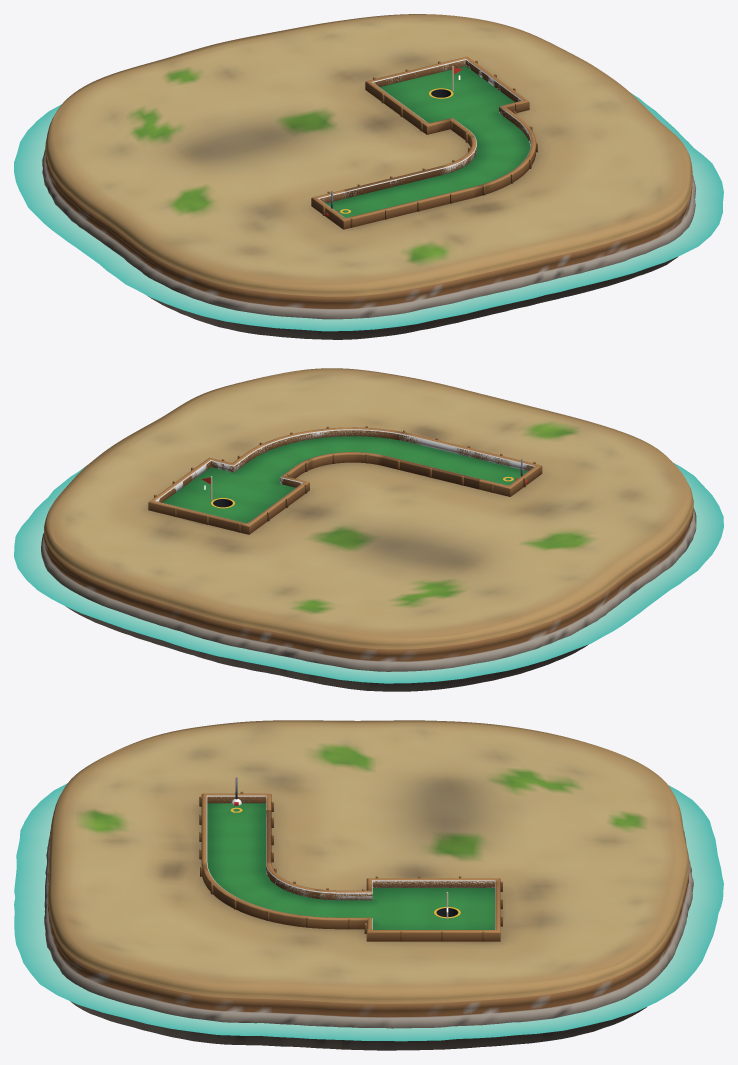
File: course-01.glb
3 views of the same model, one above another, from view 1: azimuth 30°, elevation 25°; view 2: azimuth 150°, elevation 25°; view 3: azimuth 270°, elevation 25° (orthographic). The views are drawn at different scales.
Parts seen in each view (by area): view 1: scenery-matte, water-shore, floor-felt, rail-trim, rail-wood; view 2: scenery-matte, water-shore, floor-felt, rail-trim, rail-wood; view 3: scenery-matte, water-shore, floor-felt, rail-trim, rail-wood.
Part boxes in pixels (box(x1,y1,x2,y2)): scenery-matte: box(42, 14, 696, 339); water-shore: box(14, 93, 723, 331); floor-felt: box(326, 66, 530, 217); rail-trim: box(311, 56, 537, 229); rail-wood: box(318, 59, 531, 218); scenery-matte: box(41, 368, 696, 691); water-shore: box(14, 463, 723, 683); floor-felt: box(162, 436, 527, 523); rail-trim: box(148, 426, 542, 534); rail-wood: box(155, 429, 535, 523); scenery-matte: box(44, 720, 693, 1050); water-shore: box(14, 783, 723, 1041); floor-felt: box(207, 803, 494, 929); rail-trim: box(199, 791, 502, 941); rail-wood: box(206, 795, 495, 929).
Size of the model in its own units: 21.21 by 3.26 by 20.89.
